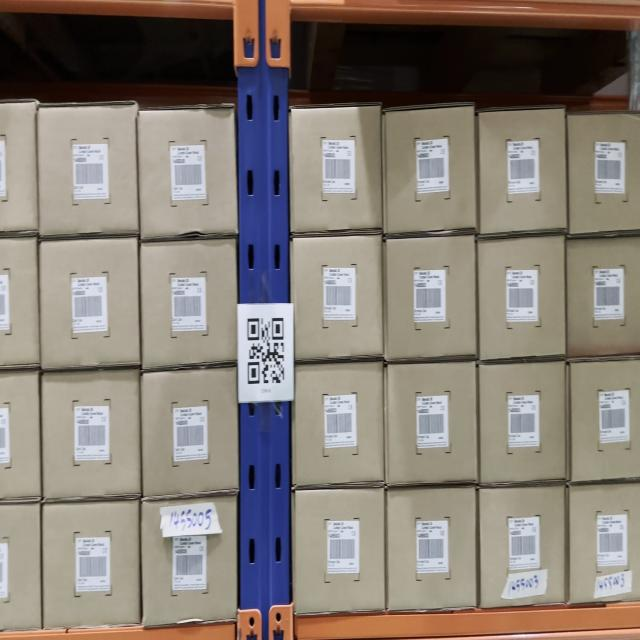box: (142, 497, 237, 623), (40, 112, 135, 234), (140, 374, 238, 492), (43, 241, 136, 363), (142, 244, 235, 364), (44, 509, 138, 626), (294, 108, 380, 232), (386, 237, 476, 355), (140, 118, 234, 230), (44, 384, 138, 494), (387, 367, 476, 483), (390, 491, 476, 610), (299, 491, 383, 612), (298, 367, 382, 486), (481, 364, 566, 481), (389, 115, 474, 231), (297, 237, 381, 354), (481, 240, 565, 352), (484, 491, 565, 603), (484, 114, 564, 226)
